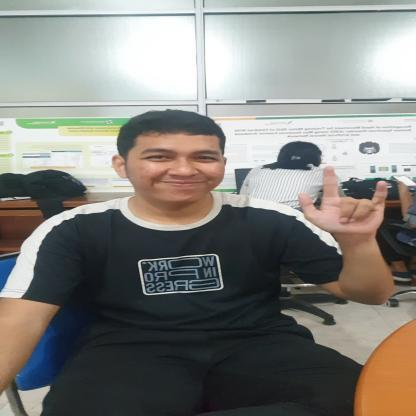ILoveYou: (297, 164, 405, 238)
